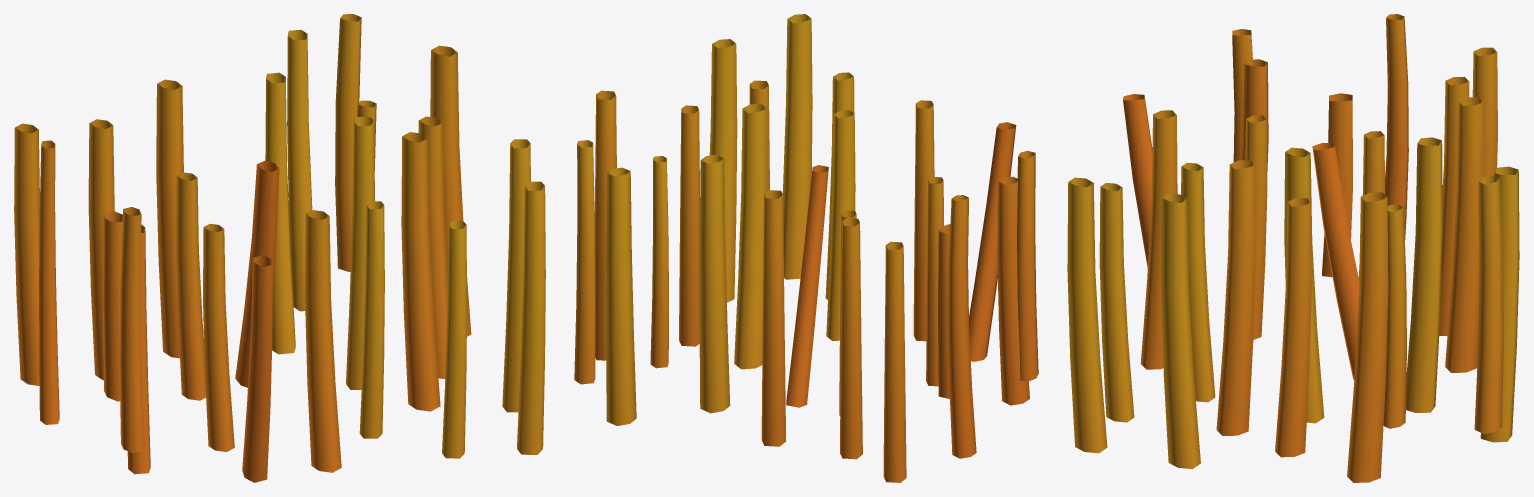
The model's file is FelledWheat.fbx.
The picture shows the model from 3 angles, left to right: view 1: azimuth 30°, elevation 25°; view 2: azimuth 150°, elevation 25°; view 3: azimuth 270°, elevation 25°; orthographic projection. The views are drawn at different scales.
Parts seen in each view (by area): view 1: Farm_Wheat.020; view 2: Farm_Wheat.020; view 3: Farm_Wheat.020.
Part boxes in pixels (bbox=[...]): Farm_Wheat.020: bbox=[14, 14, 545, 482]; Farm_Wheat.020: bbox=[574, 14, 1038, 482]; Farm_Wheat.020: bbox=[1067, 14, 1519, 482].
Size of the model in its own units: 26.58 by 17.37 by 25.44.
